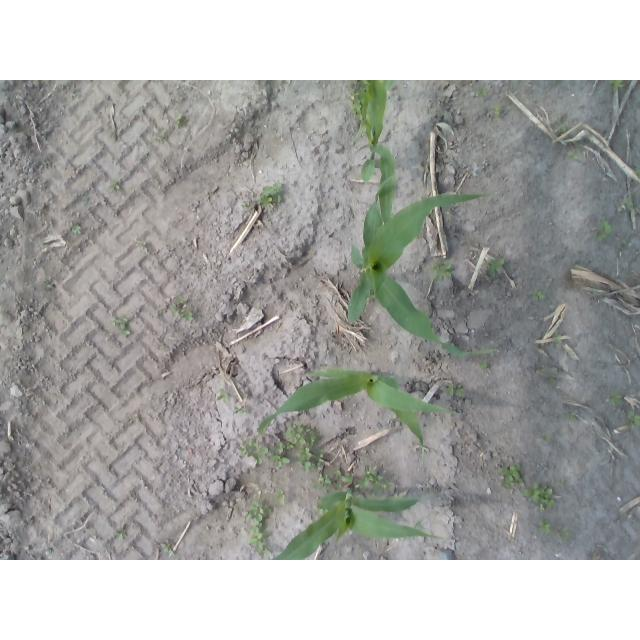Maize: (346, 174, 494, 356), (257, 368, 447, 448), (271, 485, 444, 559), (353, 82, 400, 225)
Weeds: (245, 501, 271, 555), (525, 483, 556, 510), (288, 424, 324, 446), (237, 439, 267, 465), (502, 465, 523, 489), (169, 303, 194, 322), (269, 445, 289, 468), (432, 261, 452, 280), (297, 447, 312, 472), (365, 466, 384, 483), (263, 186, 282, 202), (114, 318, 131, 335), (489, 258, 504, 275), (597, 224, 611, 241), (274, 488, 288, 503), (448, 384, 465, 396), (628, 413, 640, 426), (612, 80, 625, 92), (218, 390, 230, 402), (611, 393, 621, 407), (539, 521, 551, 532), (163, 544, 174, 555), (534, 291, 546, 301), (108, 181, 120, 191), (117, 529, 127, 539), (624, 197, 633, 208), (234, 407, 246, 414), (554, 334, 562, 343), (568, 151, 576, 159), (46, 281, 55, 288), (561, 124, 568, 132), (478, 88, 486, 95), (74, 227, 82, 234), (481, 359, 487, 368), (549, 378, 556, 385), (564, 529, 571, 536), (495, 106, 501, 114), (155, 135, 163, 141), (569, 413, 575, 419), (543, 436, 550, 441), (178, 115, 183, 122), (636, 169, 640, 176)
